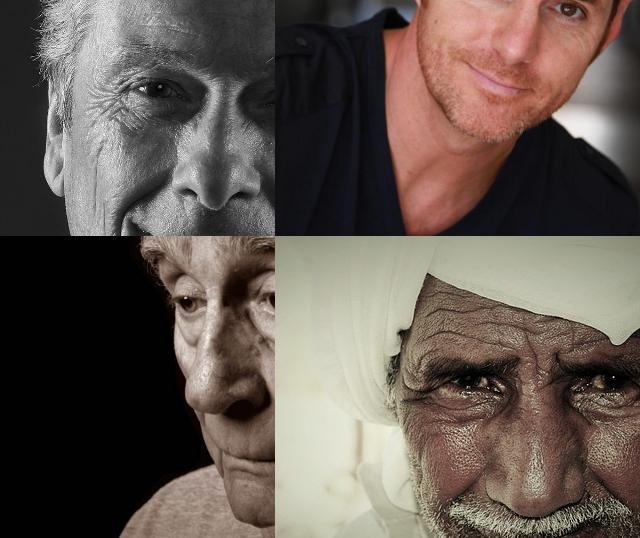crows_feet: (92, 82, 121, 118), (394, 378, 430, 406)
forehead: (425, 300, 475, 322), (484, 314, 530, 336), (421, 324, 462, 342), (568, 334, 604, 352)
frown_line: (524, 344, 546, 378)
gummy_smile: (594, 472, 628, 506), (446, 476, 480, 500), (113, 199, 133, 236)
masseter: (88, 144, 104, 206), (96, 208, 114, 236), (576, 32, 598, 50)
sad_smile: (209, 446, 231, 478)
